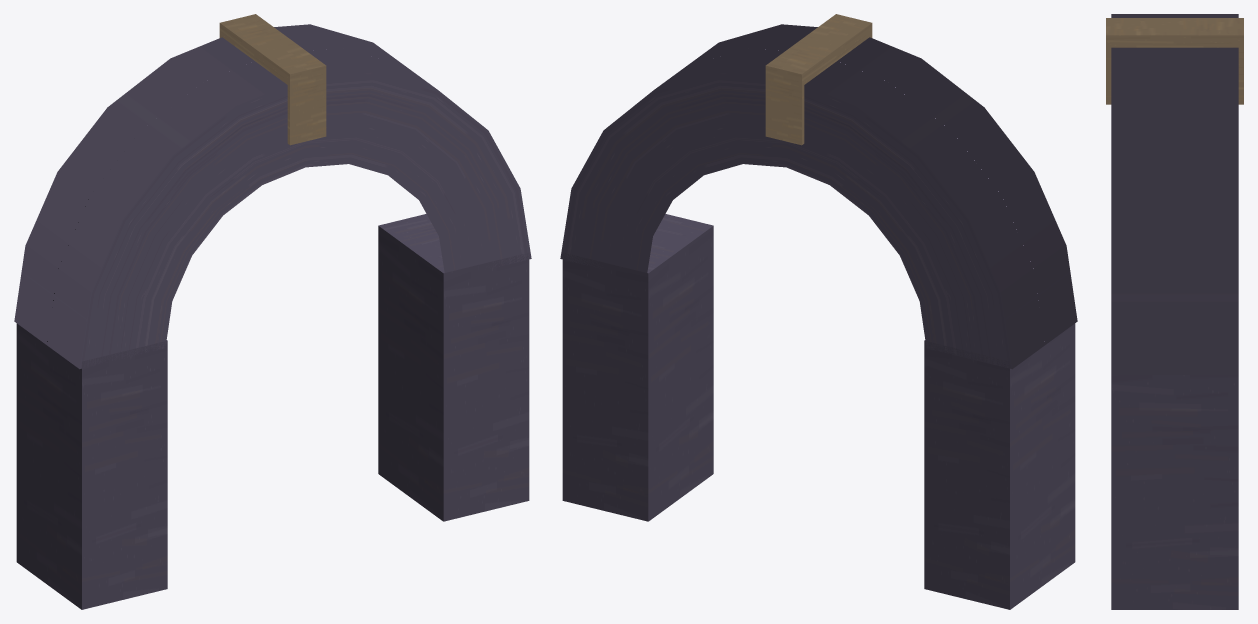
File: module-arche.glb
3 views of the same model, side by side, from view 1: azimuth 30°, elevation 25°; view 2: azimuth 150°, elevation 25°; view 3: azimuth 270°, elevation 25° (orthographic). The views are drawn at different scales.
Parts seen in each view (by area): view 1: Arc, PiedD, PiedG, CléOr; view 2: Arc, PiedD, PiedG, CléOr; view 3: Arc, PiedD, CléOr.
Part boxes in pixels (box(x1,y1,x2,y2)): Arc: box(14, 24, 531, 369); PiedD: box(378, 214, 529, 521); PiedG: box(16, 323, 167, 609); CléOr: box(219, 14, 326, 145); Arc: box(560, 24, 1077, 369); PiedD: box(562, 214, 713, 521); PiedG: box(924, 323, 1075, 609); CléOr: box(765, 14, 872, 145); Arc: box(1111, 14, 1238, 374); PiedD: box(1111, 375, 1238, 609); CléOr: box(1106, 18, 1243, 104).
Bounding box in the file's own units: 2 × 2.06 × 0.54.
Materials: 3 (3 with a texture image).
